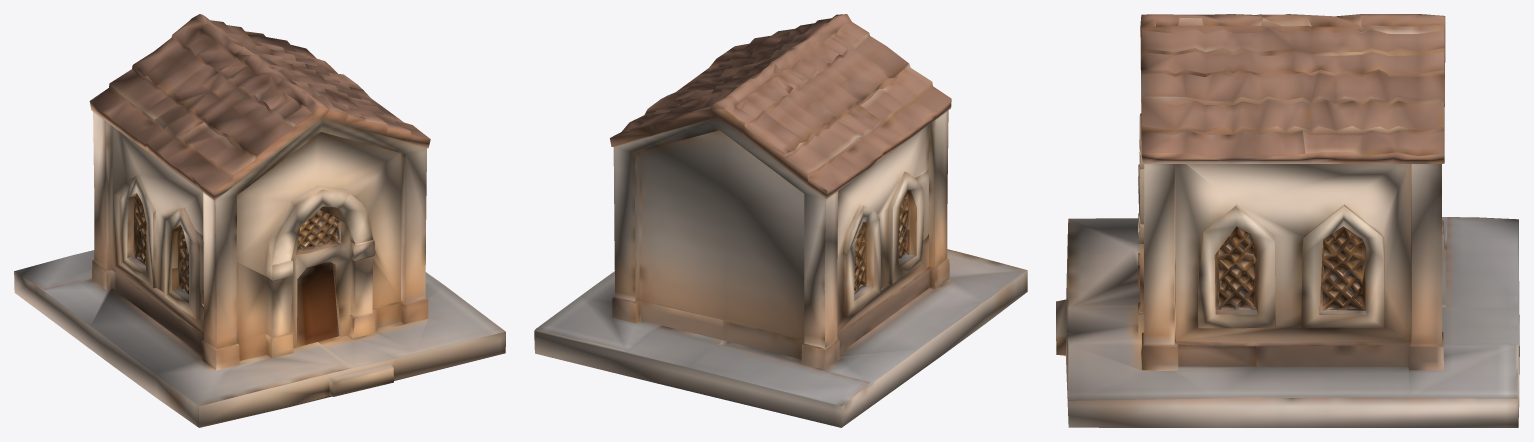
Rendered from tapinak-3.glb.
3 renders of one model, left to right at view 1: azimuth 30°, elevation 25°; view 2: azimuth 150°, elevation 25°; view 3: azimuth 270°, elevation 25°, orthographic. The views are drawn at different scales.
Parts seen in each view (by area): view 1: node_0; view 2: node_0; view 3: node_0.
Part boxes in pixels (x1=…): node_0: x1=14, y1=14, x2=505, y2=427; node_0: x1=534, y1=14, x2=1027, y2=427; node_0: x1=1056, y1=14, x2=1519, y2=427.
Bounding box in the file's own units: 0.7186 × 0.5905 × 0.7697.
Materials: 1 (1 with a texture image).
